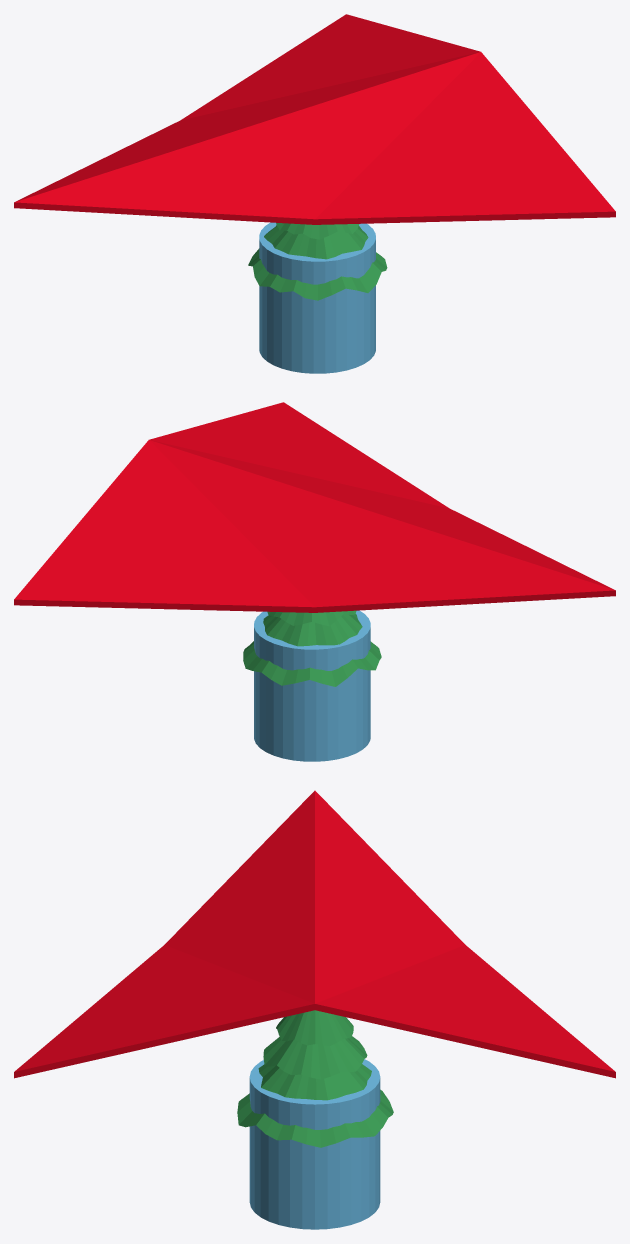
Rendered from glider.gltf.
3 views of the same model, one above another, from view 1: azimuth 30°, elevation 25°; view 2: azimuth 150°, elevation 25°; view 3: azimuth 270°, elevation 25° (orthographic). The views are drawn at different scales.
Visible parts, largest first — view 1: Player, Tree; view 2: Player, Tree; view 3: Player, Tree.
Boxes of the visible parts, box(x1,y1,x2,y2) form: Player: box(14, 14, 615, 373); Tree: box(248, 223, 387, 300); Player: box(14, 402, 615, 761); Tree: box(243, 610, 381, 686); Player: box(14, 790, 615, 1229); Tree: box(237, 1010, 393, 1147).
Bounding box in the file's own units: 2 × 1.05 × 2.
